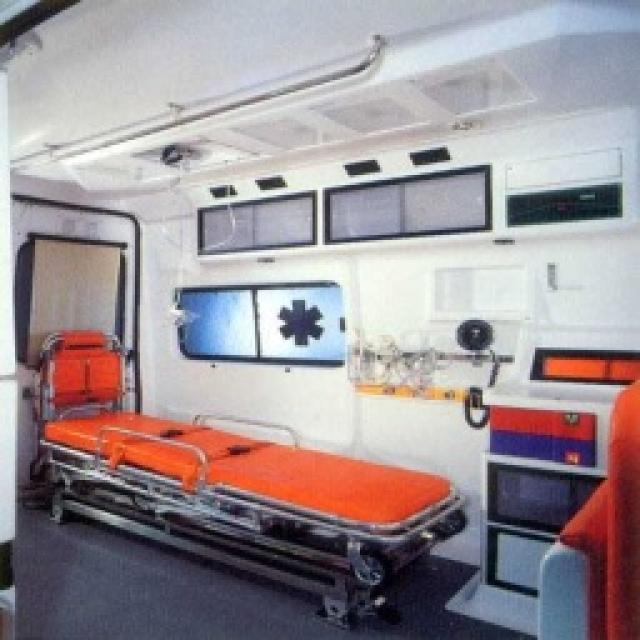ambulance: (32, 222, 470, 622)
